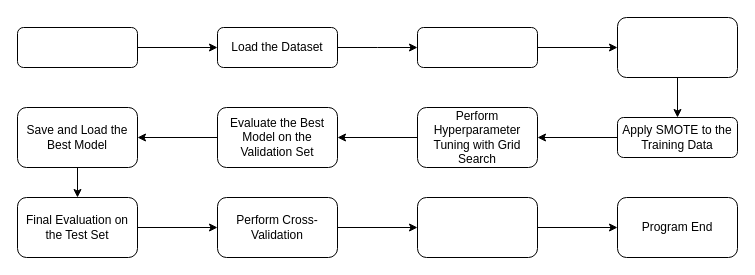
Image size: 755x275. Some labels were removed from this diagram. The centre of each missing label's shape, as x and y in pixels:
"Feature Scaling (Standardization)" belongs at point (477, 47).
"Plot Learning Curve" belongs at point (477, 227).
"Program Start" belongs at point (77, 47).
"Split Data into Training, Validation and Test Sets" belongs at point (677, 47).
